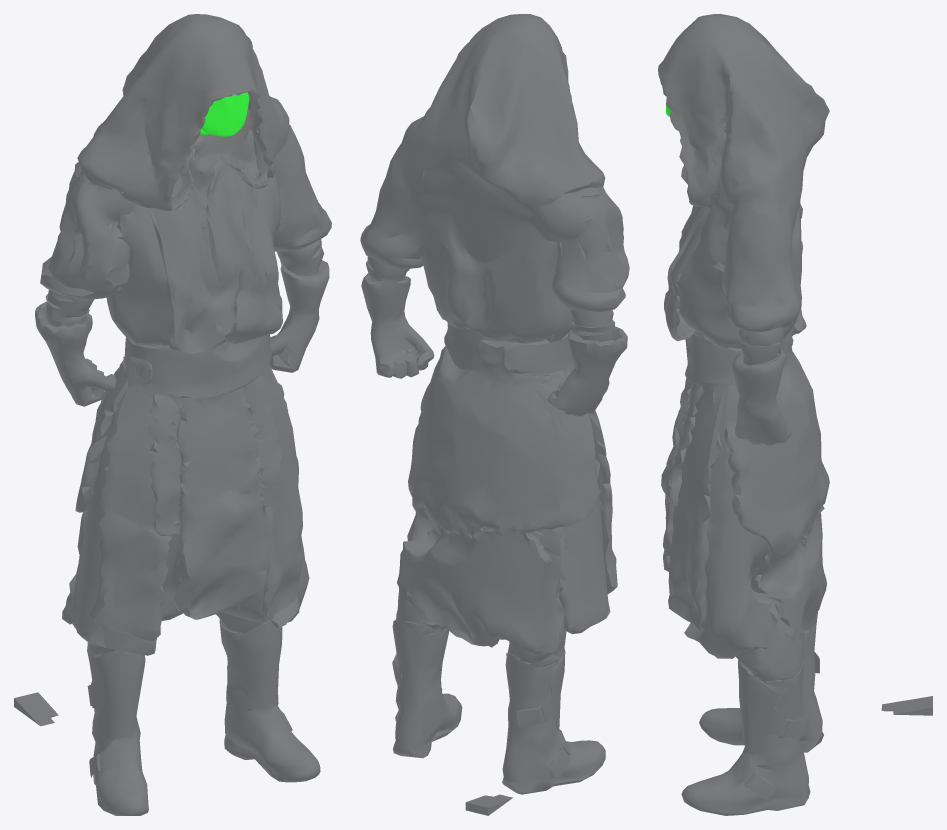
3 renders of one model, left to right at view 1: azimuth 30°, elevation 25°; view 2: azimuth 150°, elevation 25°; view 3: azimuth 270°, elevation 25°, orthographic. The views are drawn at different scales.
Parts seen in each view (by area): view 1: Object_2; view 2: Object_2; view 3: Object_2.
Boxes of the visible parts, x1=… form: Object_2: x1=14, y1=14, x2=331, y2=815; Object_2: x1=360, y1=14, x2=629, y2=815; Object_2: x1=658, y1=14, x2=932, y2=815.
Size of the model in its own units: 36.17 by 96 by 31.76.
1 material, 1 textured.
